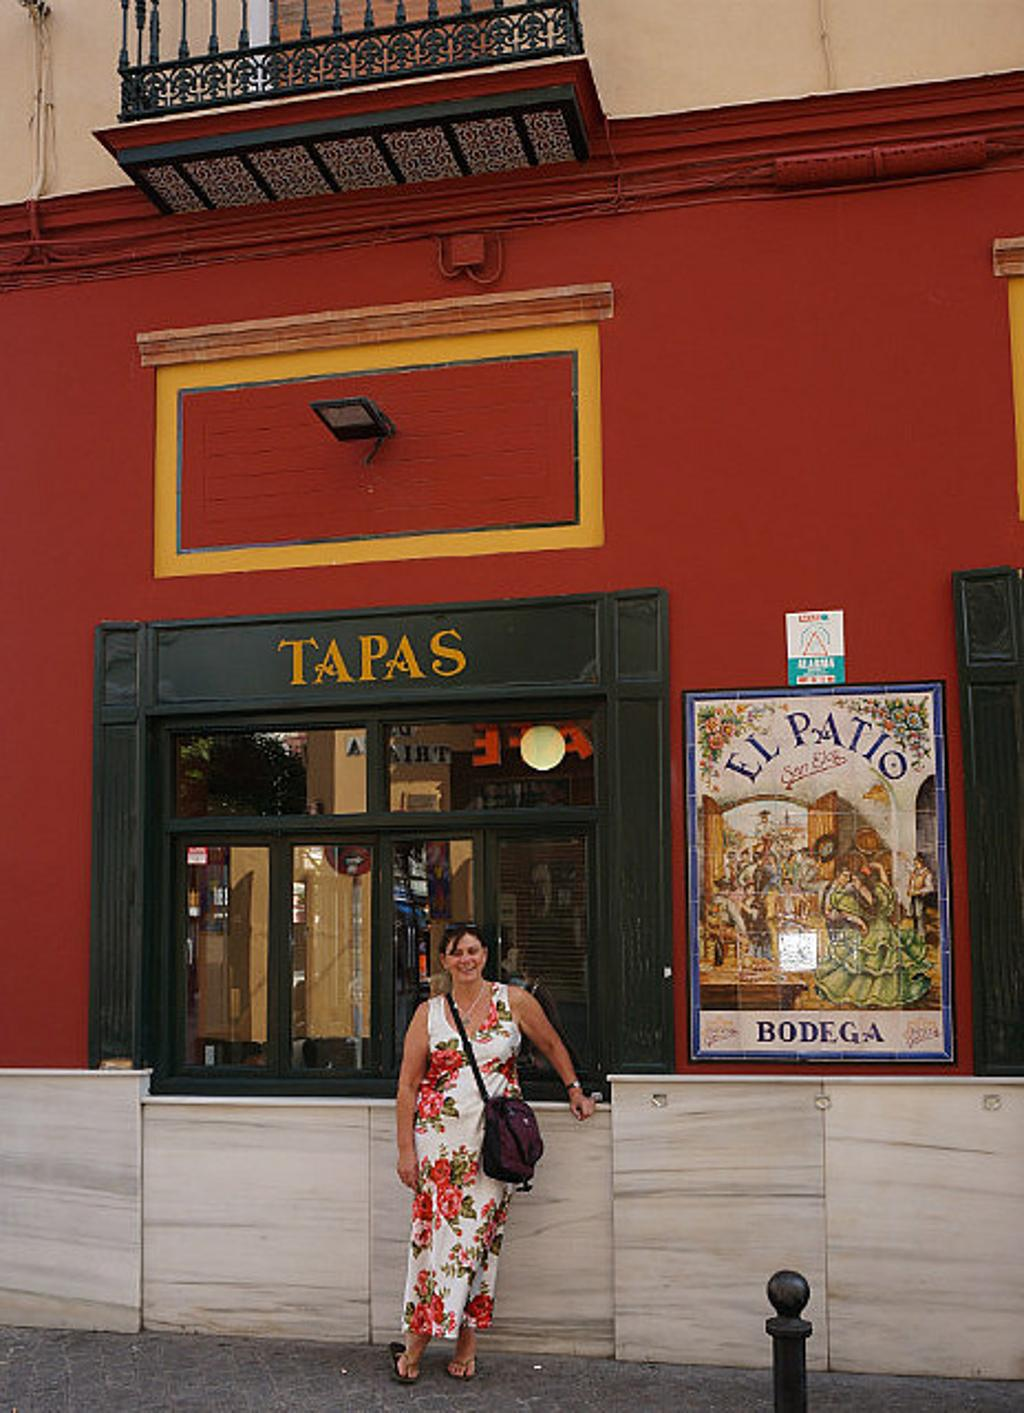face: (446, 935, 482, 980)
